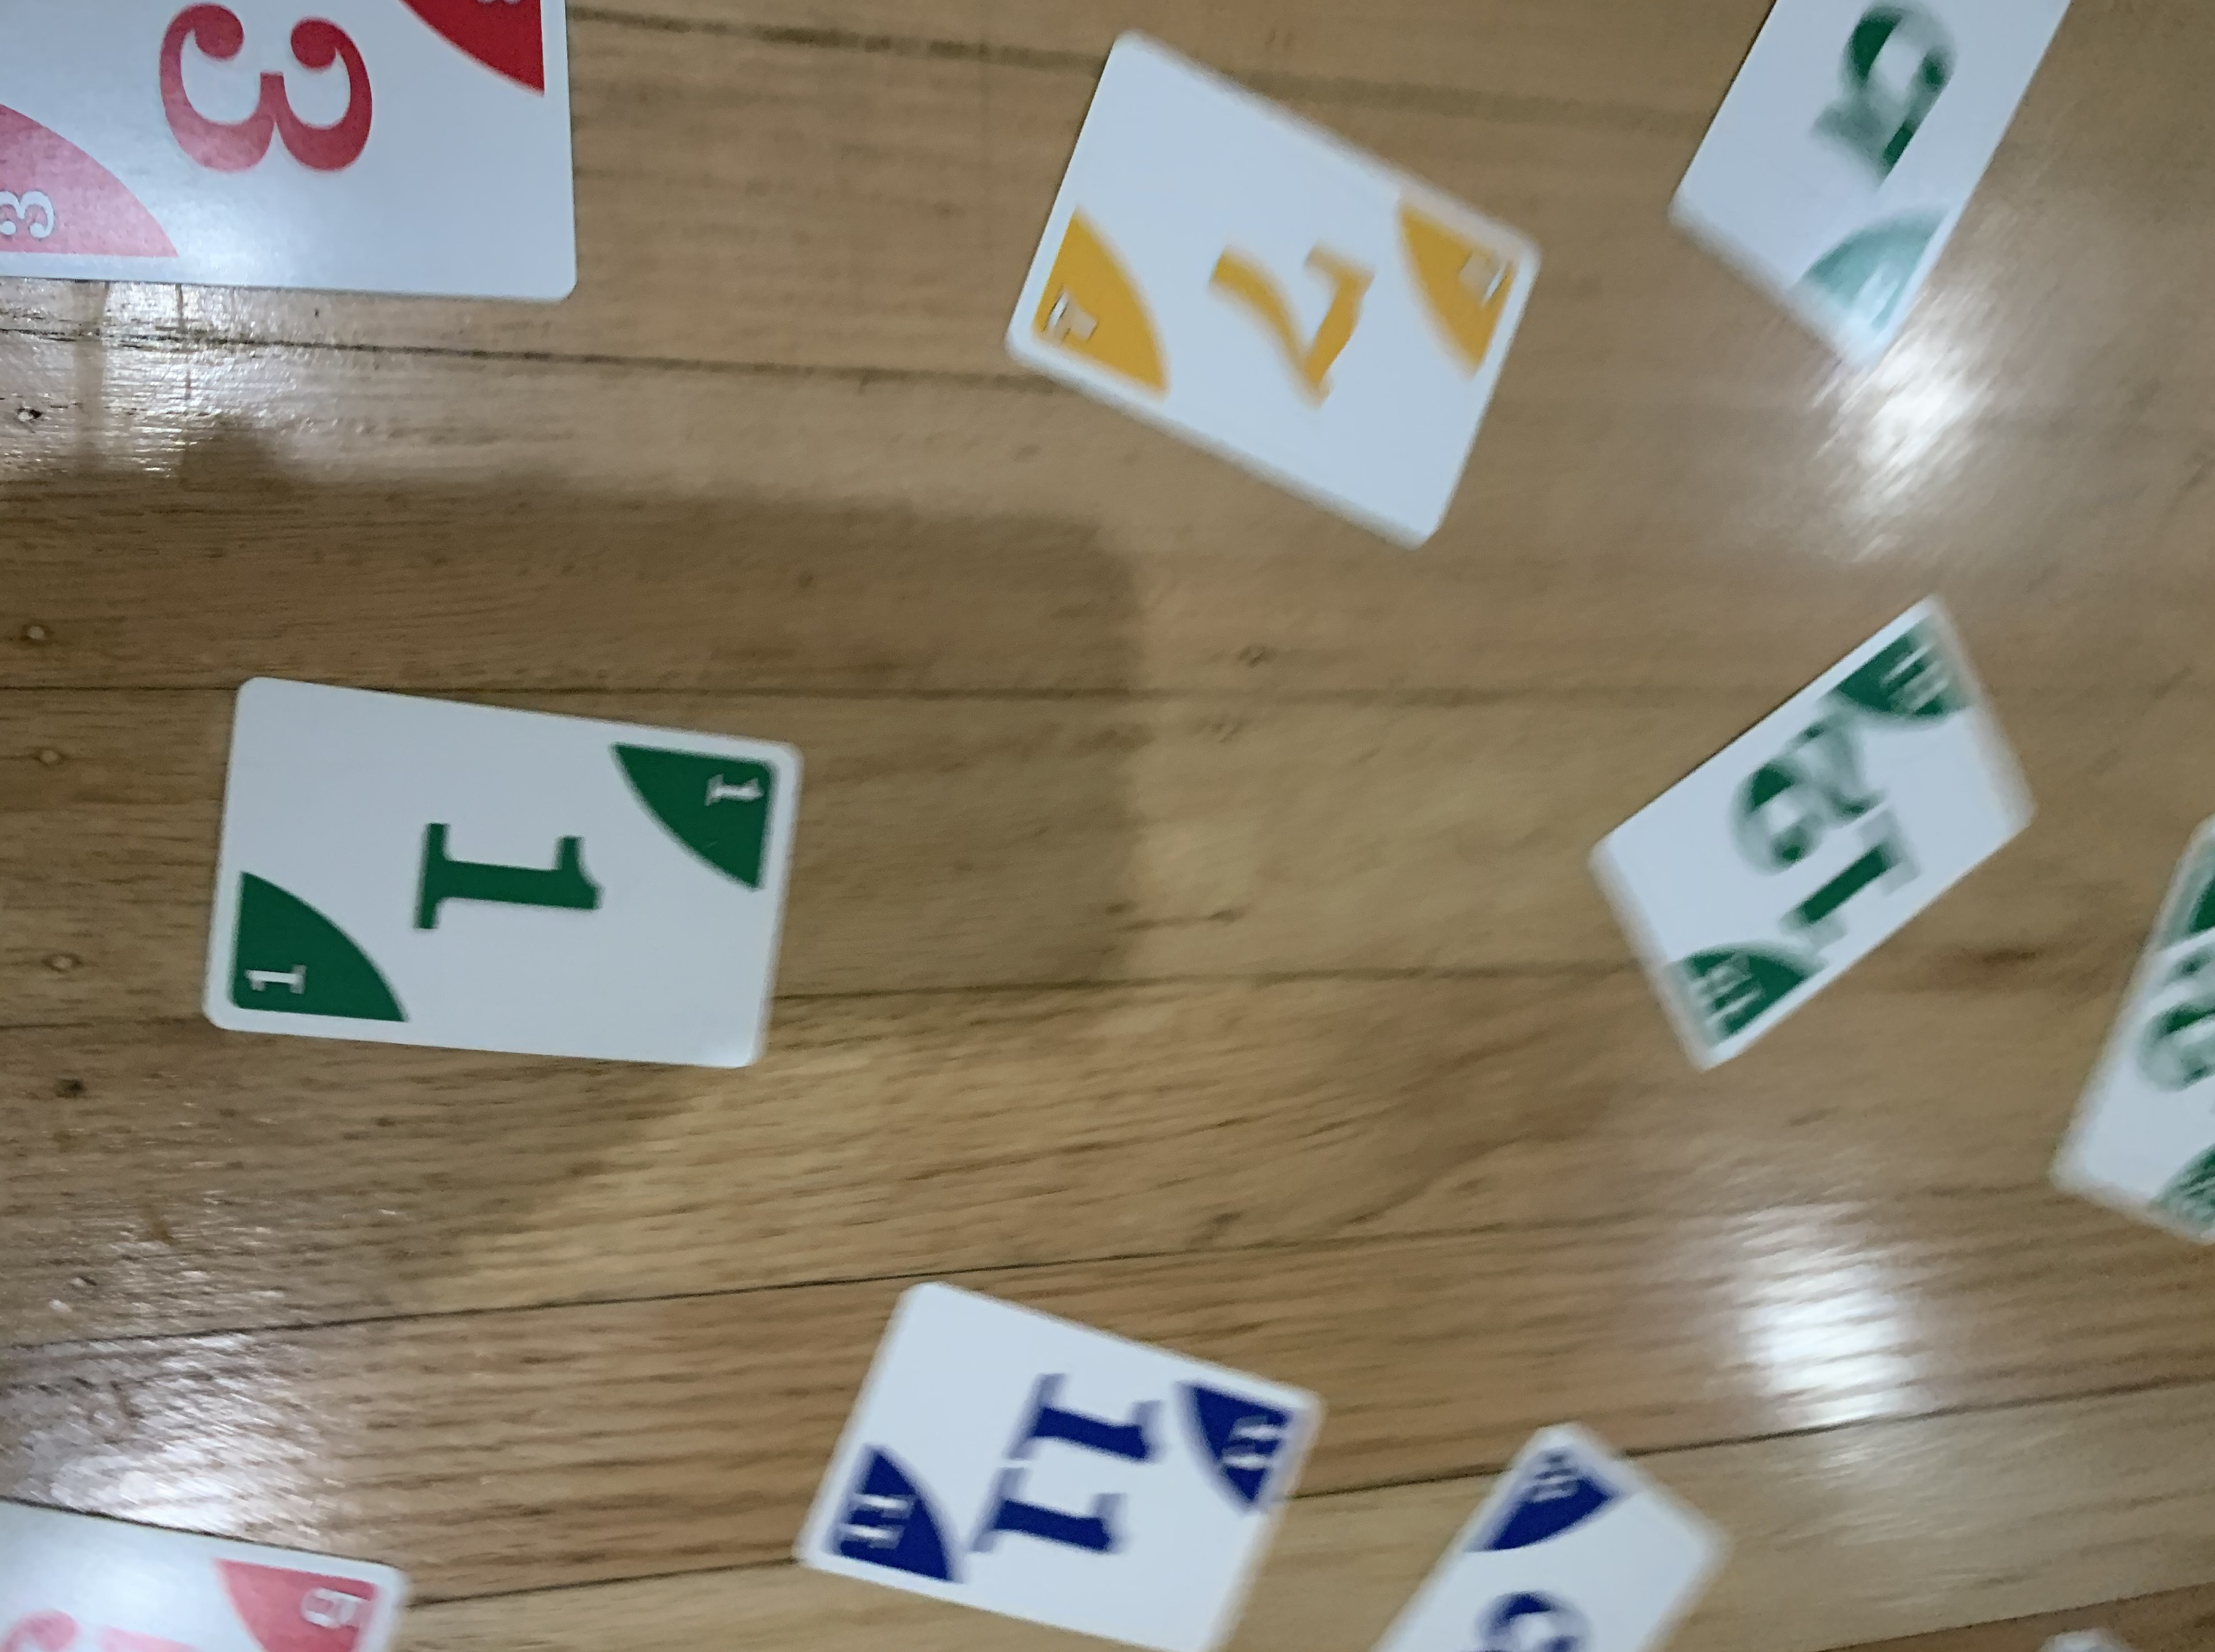one: (187, 666, 816, 1081)
seven: (991, 19, 1554, 550)
three: (0, 5, 587, 300)
